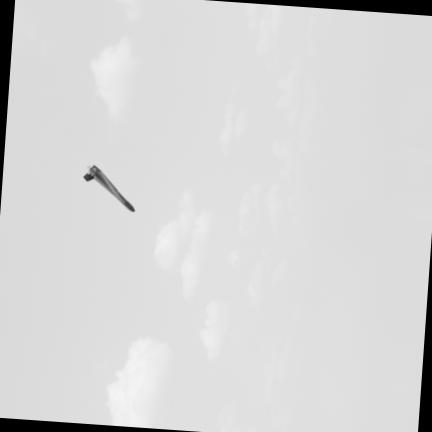Shahed: (84, 164, 134, 209)
